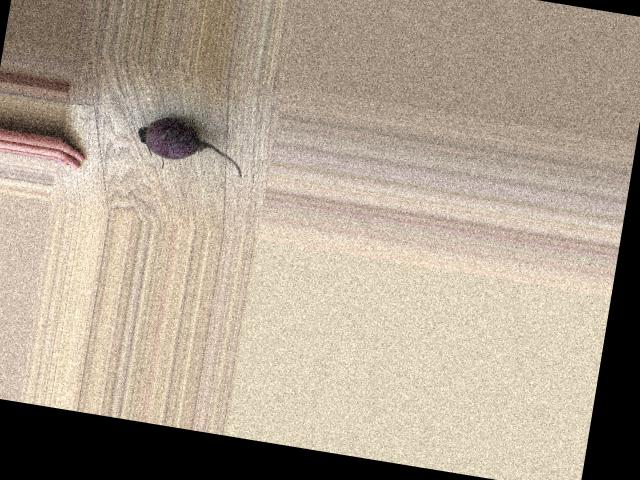beet: (134, 114, 249, 181)
